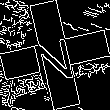N_N: (30, 26, 80, 84)
